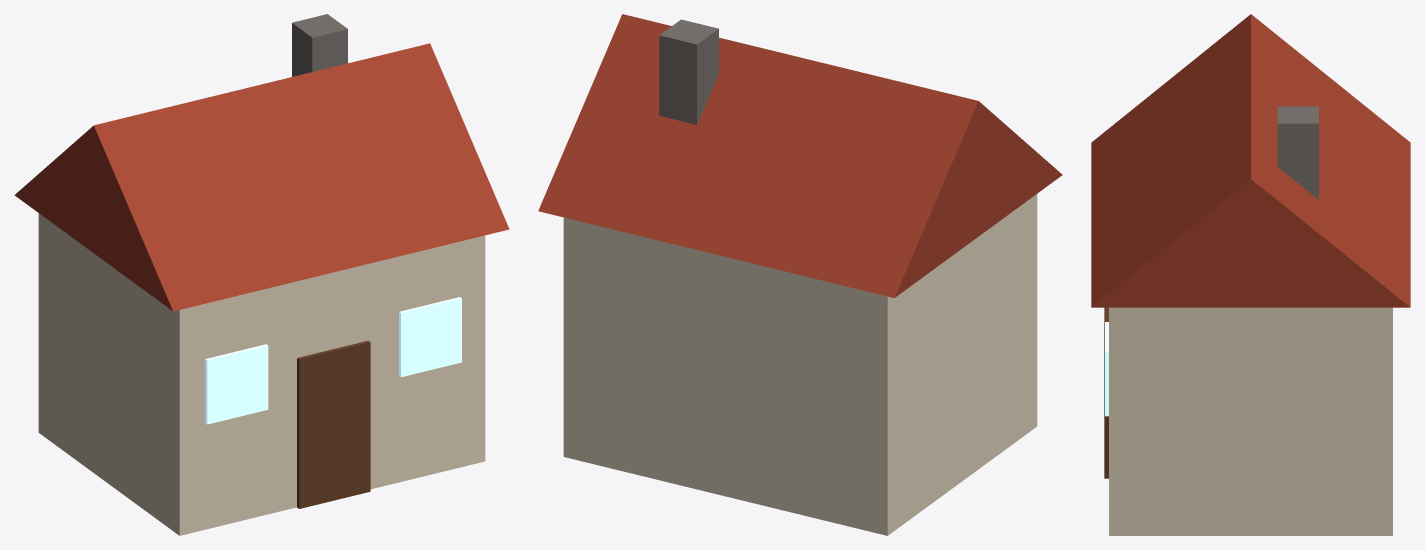
The model's file is house.glb.
3 renders of one model, left to right at view 1: azimuth 30°, elevation 25°; view 2: azimuth 150°, elevation 25°; view 3: azimuth 270°, elevation 25°, orthographic. The views are drawn at different scales.
Bounding box in the file's own units: 3.3 × 3.6 × 2.7.
